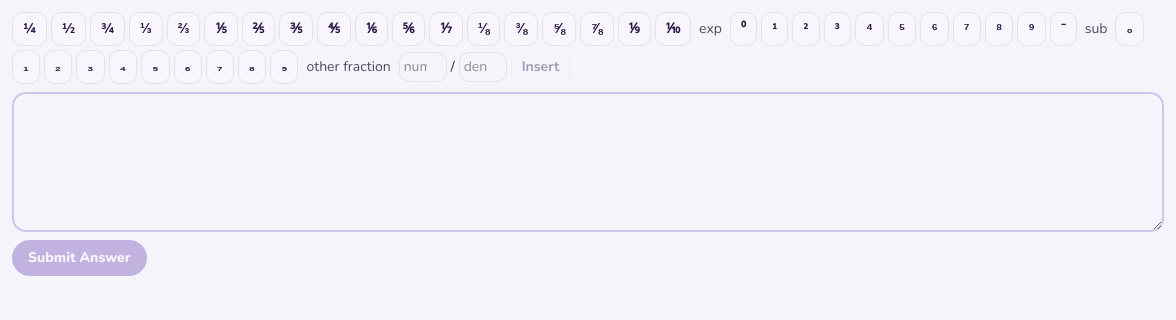
Scenario: FreeTextAnswerInput rejection states › shows the rate-limited state and no other rejection state
In the text box: (588, 162) [12,92,1164,232], type "an answer"
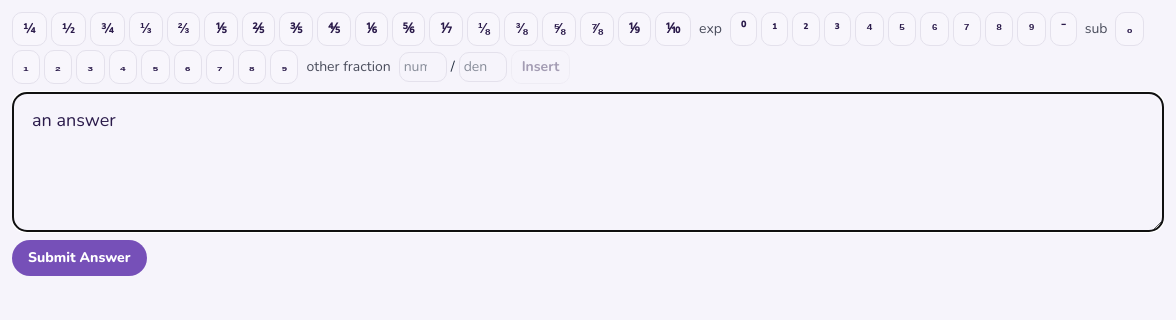
Click the button "Submit Answer": (79, 258) [12,240,146,276]
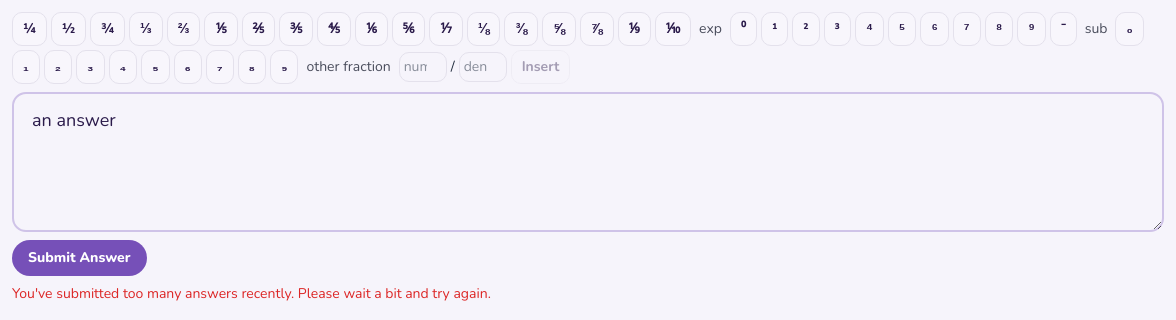
Now the text with test id "free-text-error-rate-limited" is shown, box [12,284,491,303]
